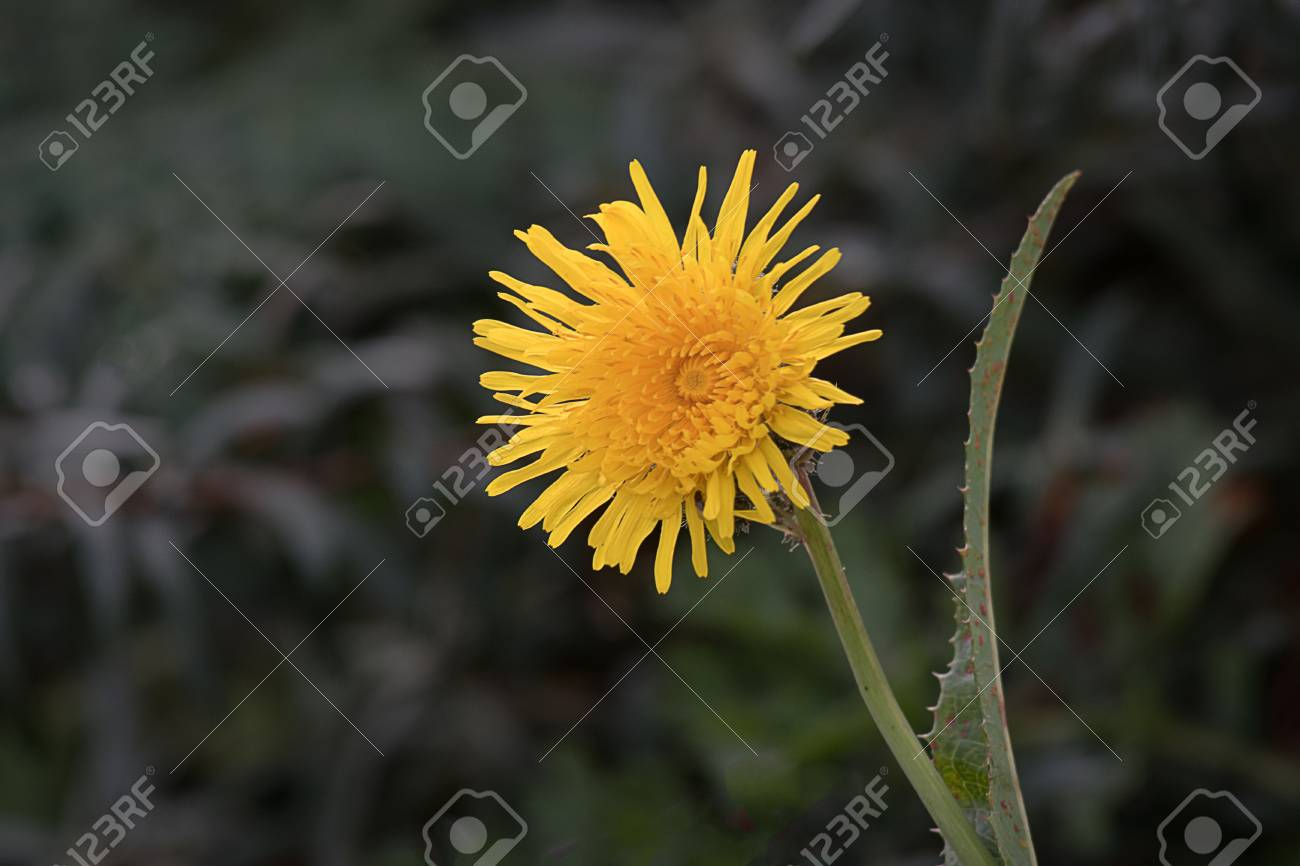dandelion: (453, 167, 891, 561)
